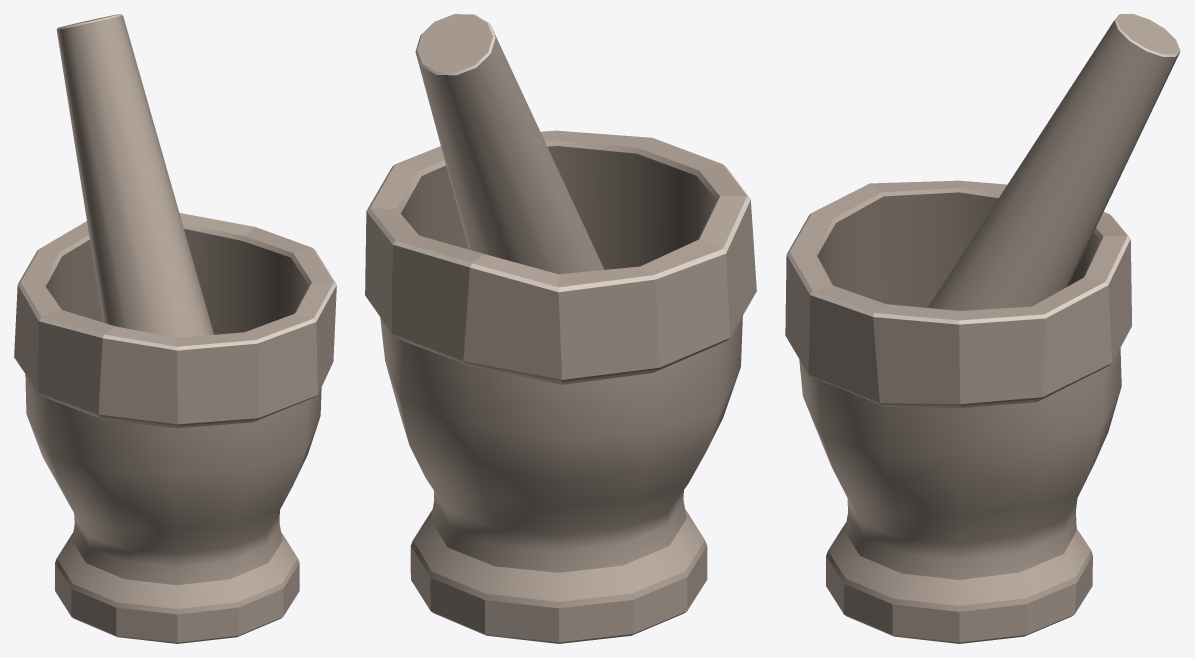
File: UD_SFK_Mortar_and_Pestle.fbx
3 renders of one model, left to right at view 1: azimuth 30°, elevation 25°; view 2: azimuth 150°, elevation 25°; view 3: azimuth 270°, elevation 25°, orthographic. The views are drawn at different scales.
Parts seen in each view (by area): view 1: Mortar, Pestle; view 2: Mortar, Pestle; view 3: Mortar, Pestle.
Boxes of the visible parts, left/top/right/bottom form: Mortar: left=14, top=213, right=336, bottom=643; Pestle: left=56, top=14, right=213, bottom=337; Mortar: left=365, top=130, right=756, bottom=643; Pestle: left=415, top=14, right=604, bottom=274; Mortar: left=785, top=180, right=1131, bottom=643; Pestle: left=927, top=14, right=1180, bottom=310.
Bounding box in the file's own units: 15.77 × 28.32 × 17.83.
